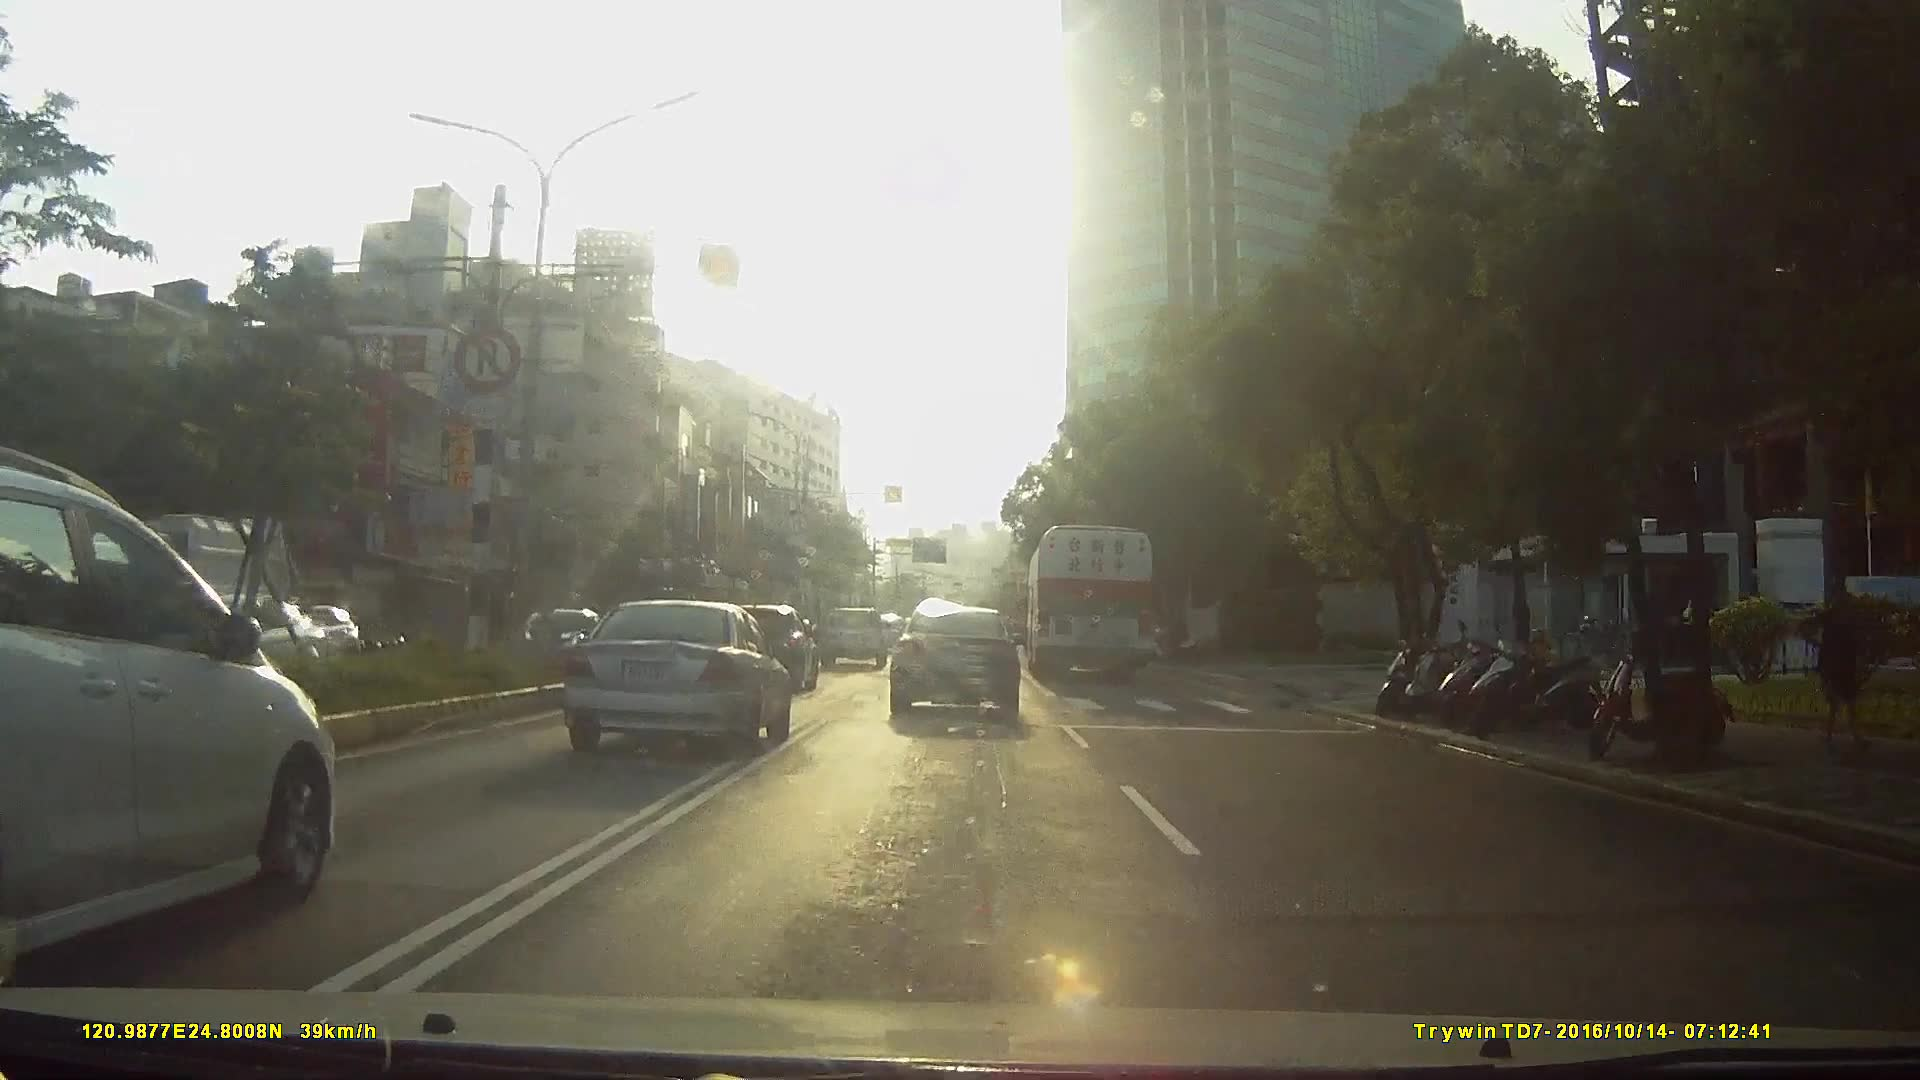pedestrian: (1803, 586, 1879, 758)
vehicle: (1, 457, 361, 977), (250, 556, 684, 868), (551, 598, 789, 760), (53, 502, 266, 665), (113, 592, 336, 699), (1024, 524, 1157, 689), (885, 598, 1022, 723), (819, 607, 887, 673)
